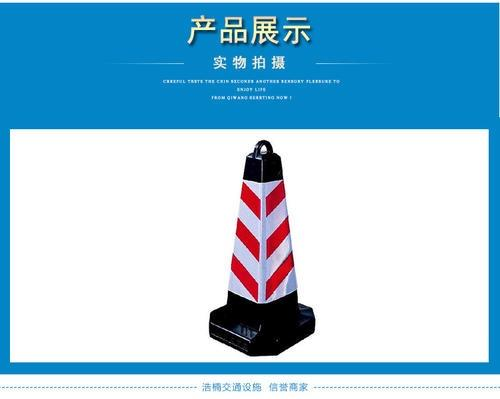cone_barrel: (206, 141, 316, 350)
